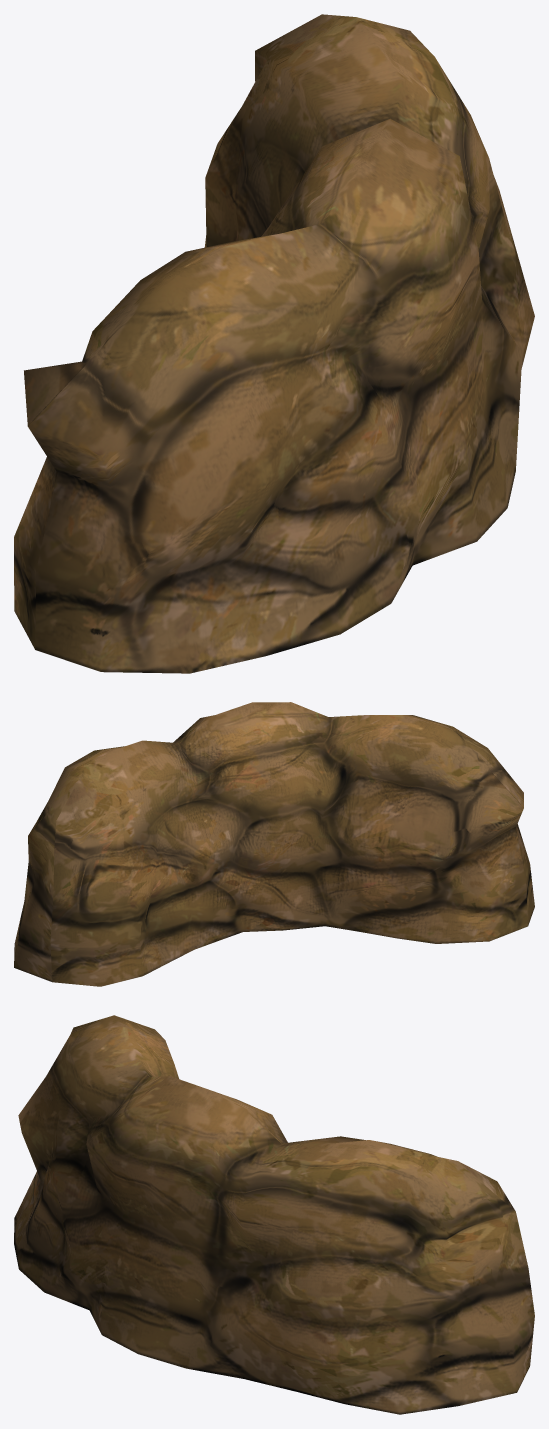
The model's file is Sandbags_Corner_01.FBX.
The picture shows the model from 3 angles, top to bottom: view 1: azimuth 30°, elevation 25°; view 2: azimuth 150°, elevation 25°; view 3: azimuth 270°, elevation 25°; orthographic projection. The views are drawn at different scales.
Parts seen in each view (by area): view 1: Sandbags_Corner_01; view 2: Sandbags_Corner_01; view 3: Sandbags_Corner_01.
Part boxes in pixels (x1,y1,x2,y2): Sandbags_Corner_01: (14,14,534,673); Sandbags_Corner_01: (14,702,534,986); Sandbags_Corner_01: (14,1015,534,1414).
Size of the model in its own units: 2.49 by 1.24 by 2.43.
